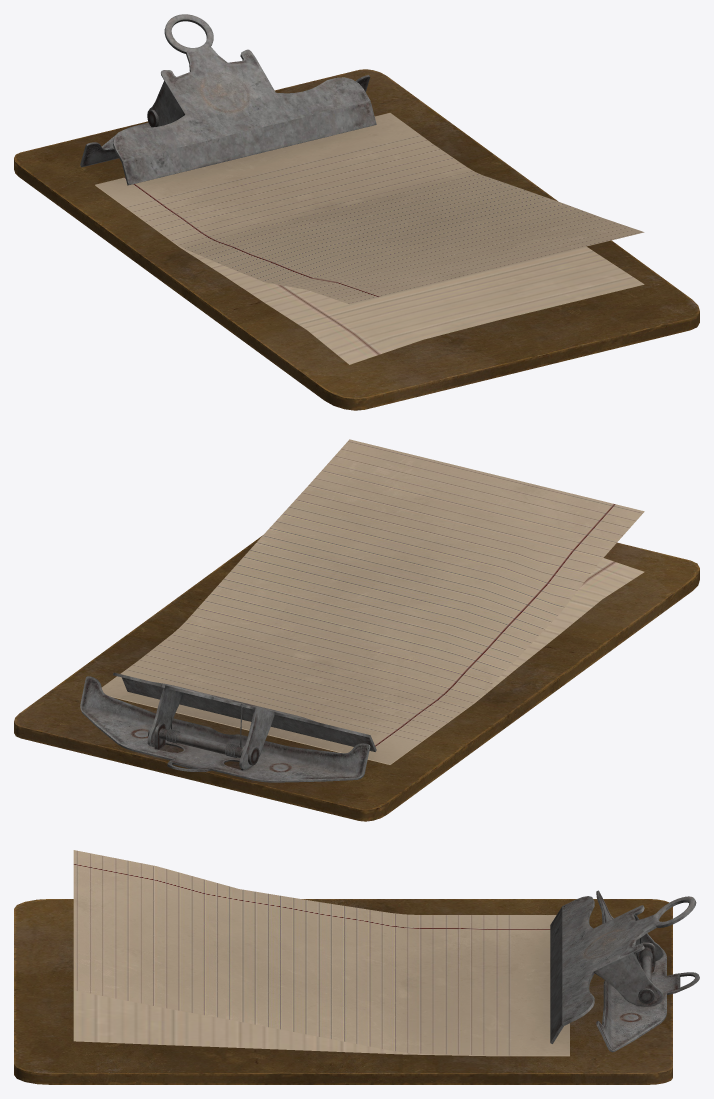
Rendered from step01.glb.
3 renders of one model, top to bottom at view 1: azimuth 30°, elevation 25°; view 2: azimuth 150°, elevation 25°; view 3: azimuth 270°, elevation 25°, orthographic. The views are drawn at different scales.
Visible parts, largest first — view 1: Vintage Wooden Clipboard.001; view 2: Vintage Wooden Clipboard.001; view 3: Vintage Wooden Clipboard.001.
Part boxes in pixels (x1,y1,x2,y2): Vintage Wooden Clipboard.001: [14, 14, 699, 410]; Vintage Wooden Clipboard.001: [14, 439, 699, 821]; Vintage Wooden Clipboard.001: [14, 850, 699, 1084].
Bounding box in the file's own units: 0.2277 × 0.0588 × 0.3773.
1 material, 1 textured.
